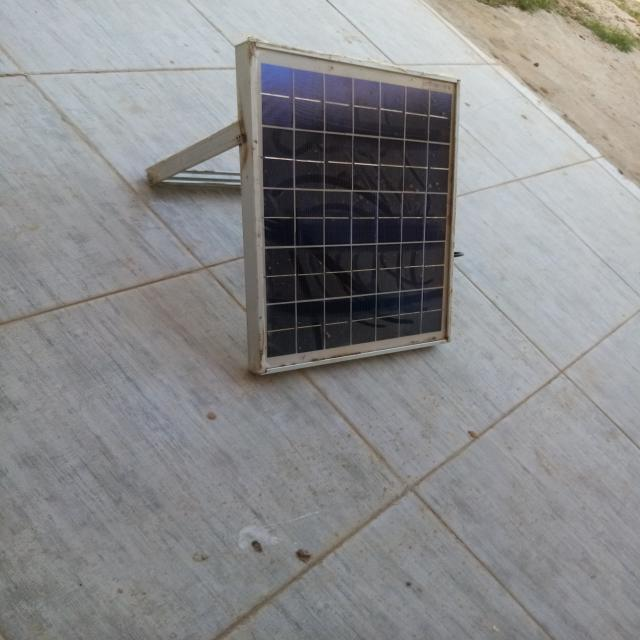faulty: (253, 43, 459, 372)
